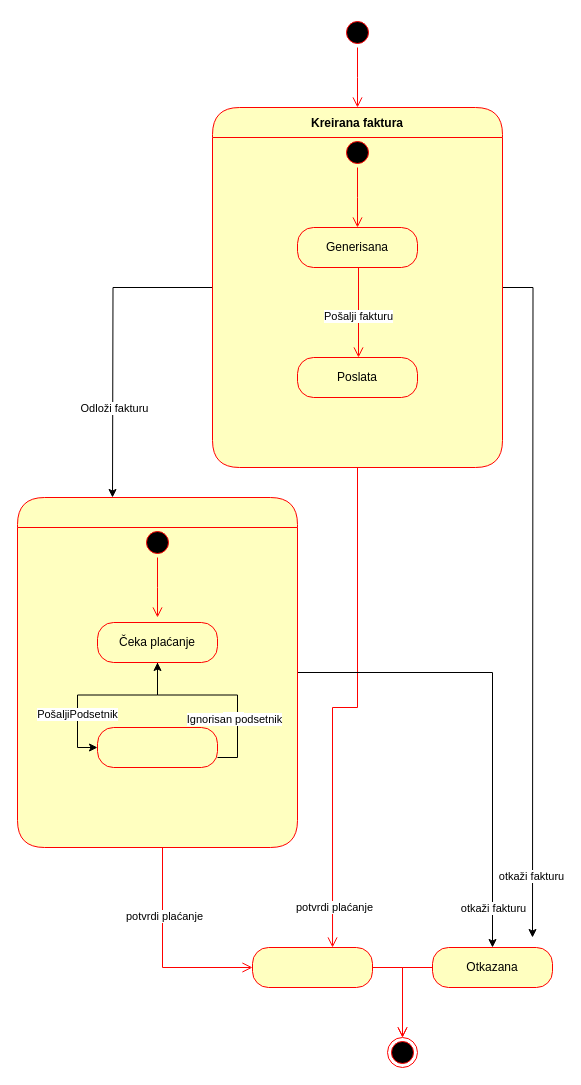
Image size: 581x1085. Some labels were removed from this diagram. The box of each missing label's shape, as (x1, y1, x2, y2) in pixels:
Activity: (96, 726, 218, 768)
Na čekanju: (16, 496, 298, 848)
Plaćena: (252, 946, 372, 988)
